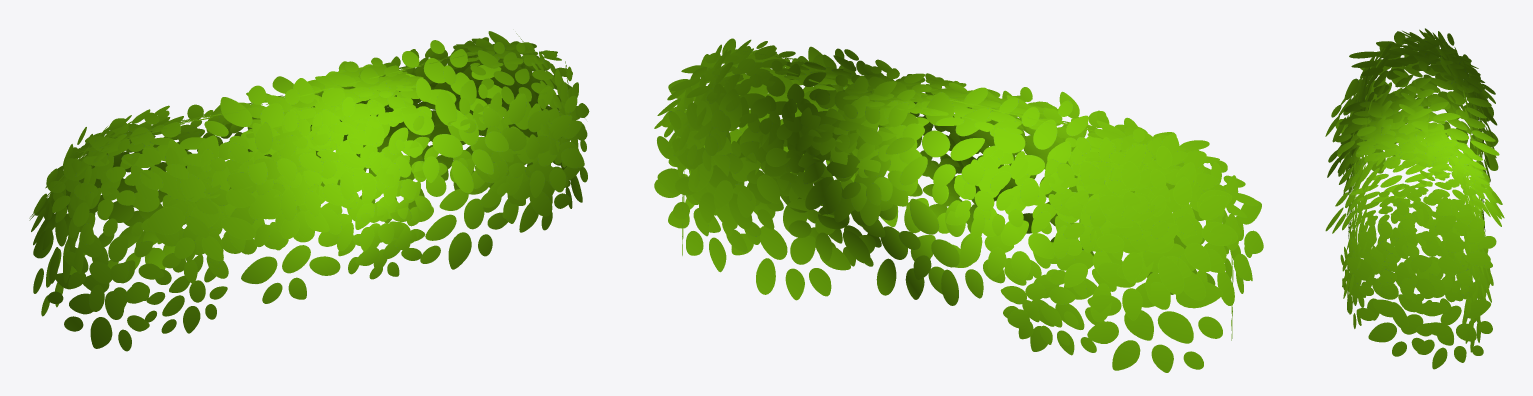
File: Bush_Small.glb
The picture shows the model from 3 angles, left to right: view 1: azimuth 30°, elevation 25°; view 2: azimuth 150°, elevation 25°; view 3: azimuth 270°, elevation 25°; orthographic projection. The views are drawn at different scales.
Parts seen in each view (by area): view 1: Bush_Small; view 2: Bush_Small; view 3: Bush_Small.
Part boxes in pixels (x1,y1,x2,y2): Bush_Small: (29,31,589,351); Bush_Small: (654,38,1263,372); Bush_Small: (1325,28,1504,369).
Bounding box in the file's own units: 1.9 × 0.7784 × 0.7238.
1 material, 1 textured.
